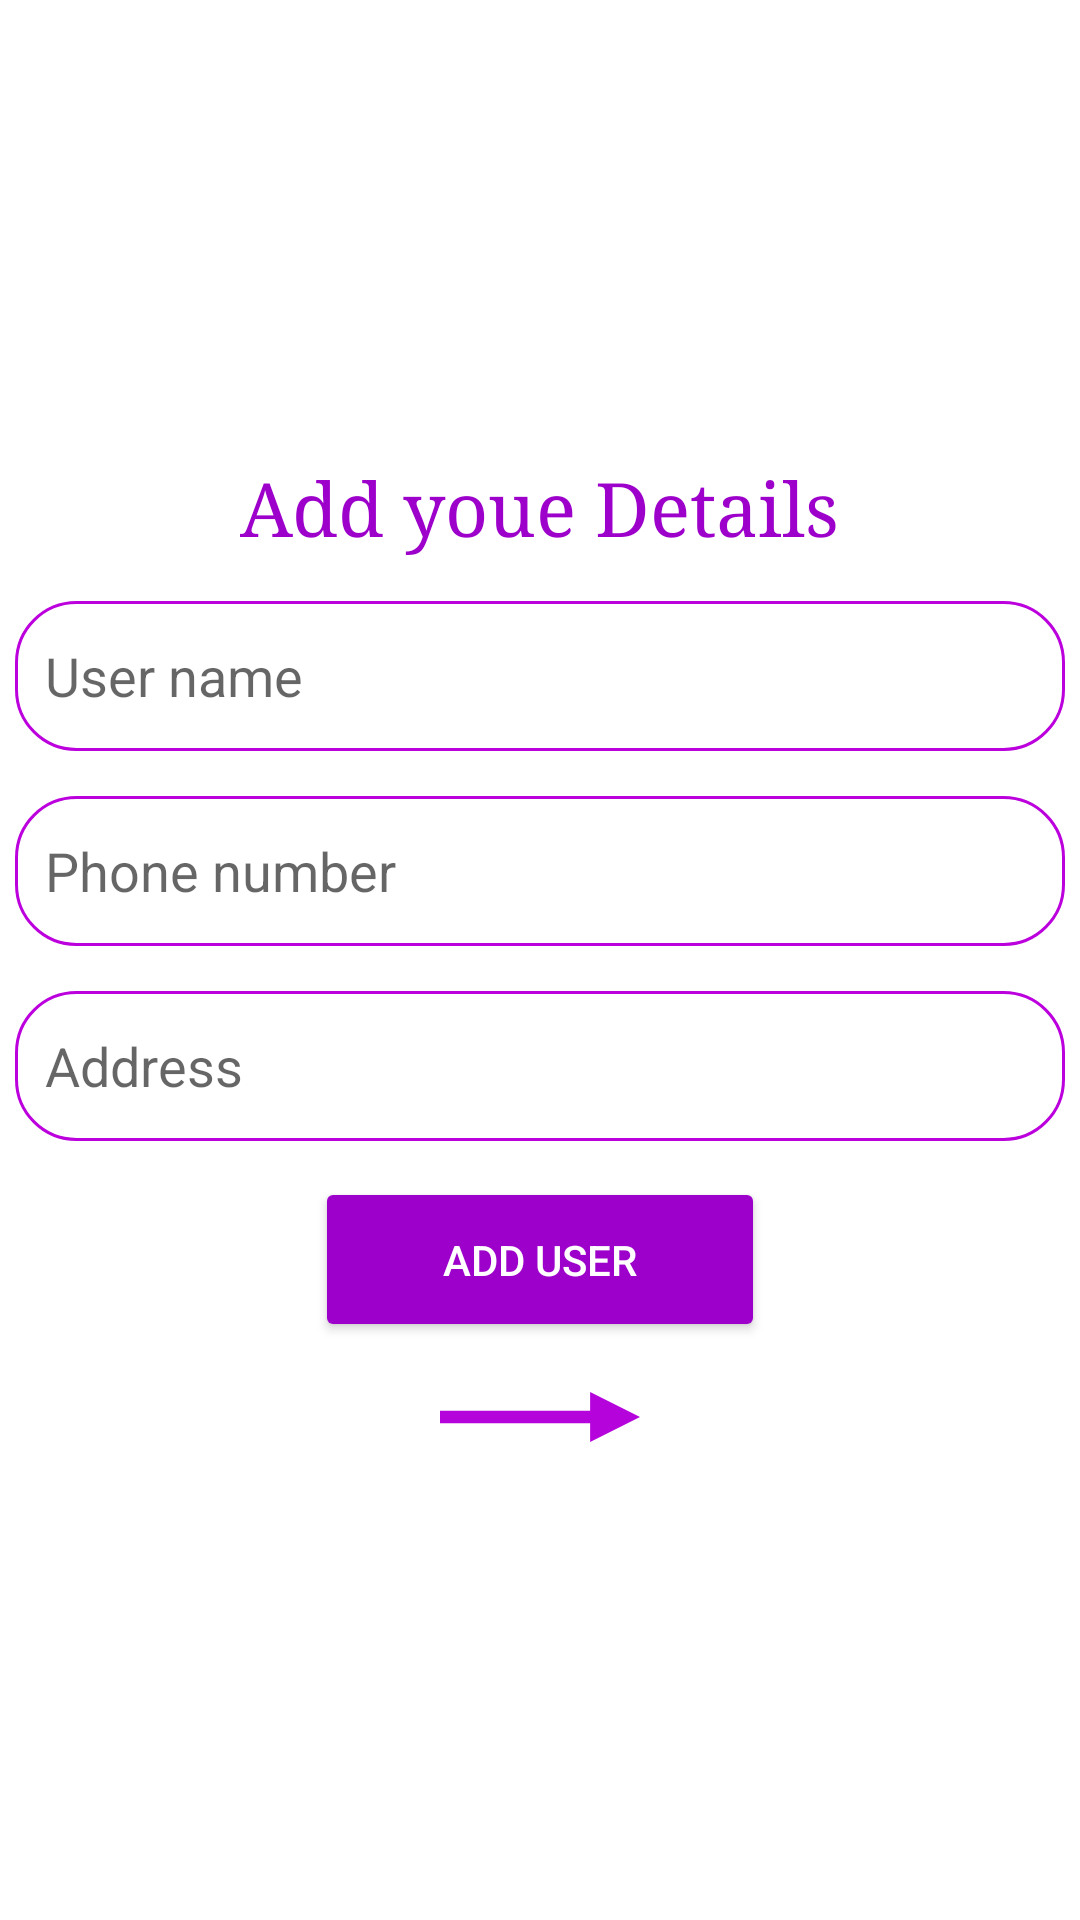

Point at icon controls on the screen. Image size 1080w x 1920h, points as (x=x, y=y).
arrow right: (x=540, y=1417)
